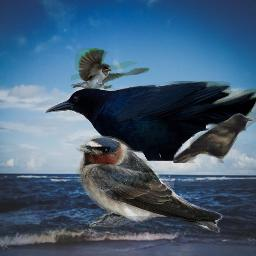Crow: (44, 81, 256, 161), (173, 113, 254, 163)
Swallow: (74, 135, 223, 233), (71, 48, 150, 89)
